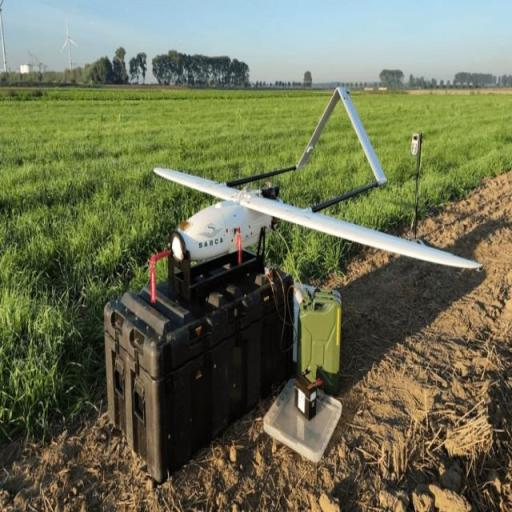uav: (143, 81, 491, 306)
